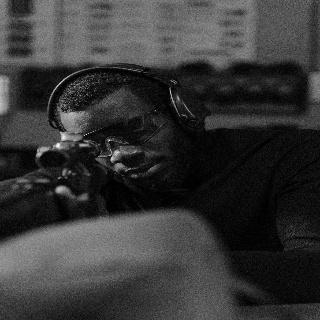rifle: (1, 138, 112, 237)
